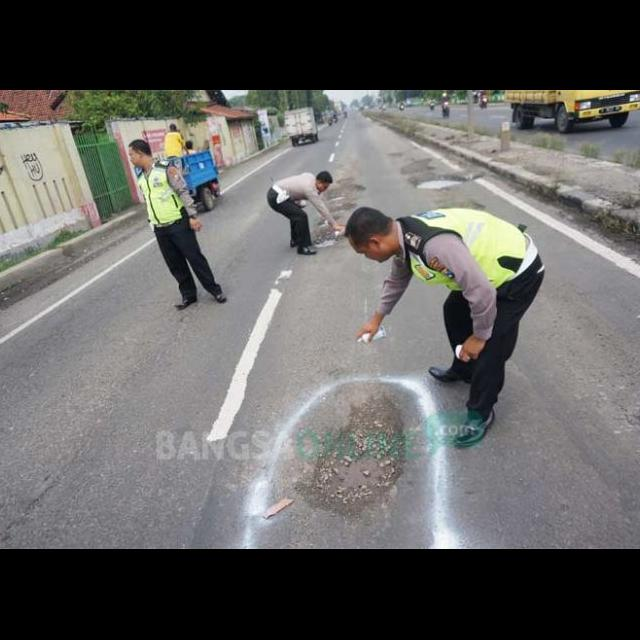lubang_kecil: (276, 374, 423, 534), (326, 166, 374, 208), (404, 172, 473, 196), (314, 226, 342, 254)
retak_kulit_buaya: (622, 374, 640, 460)
